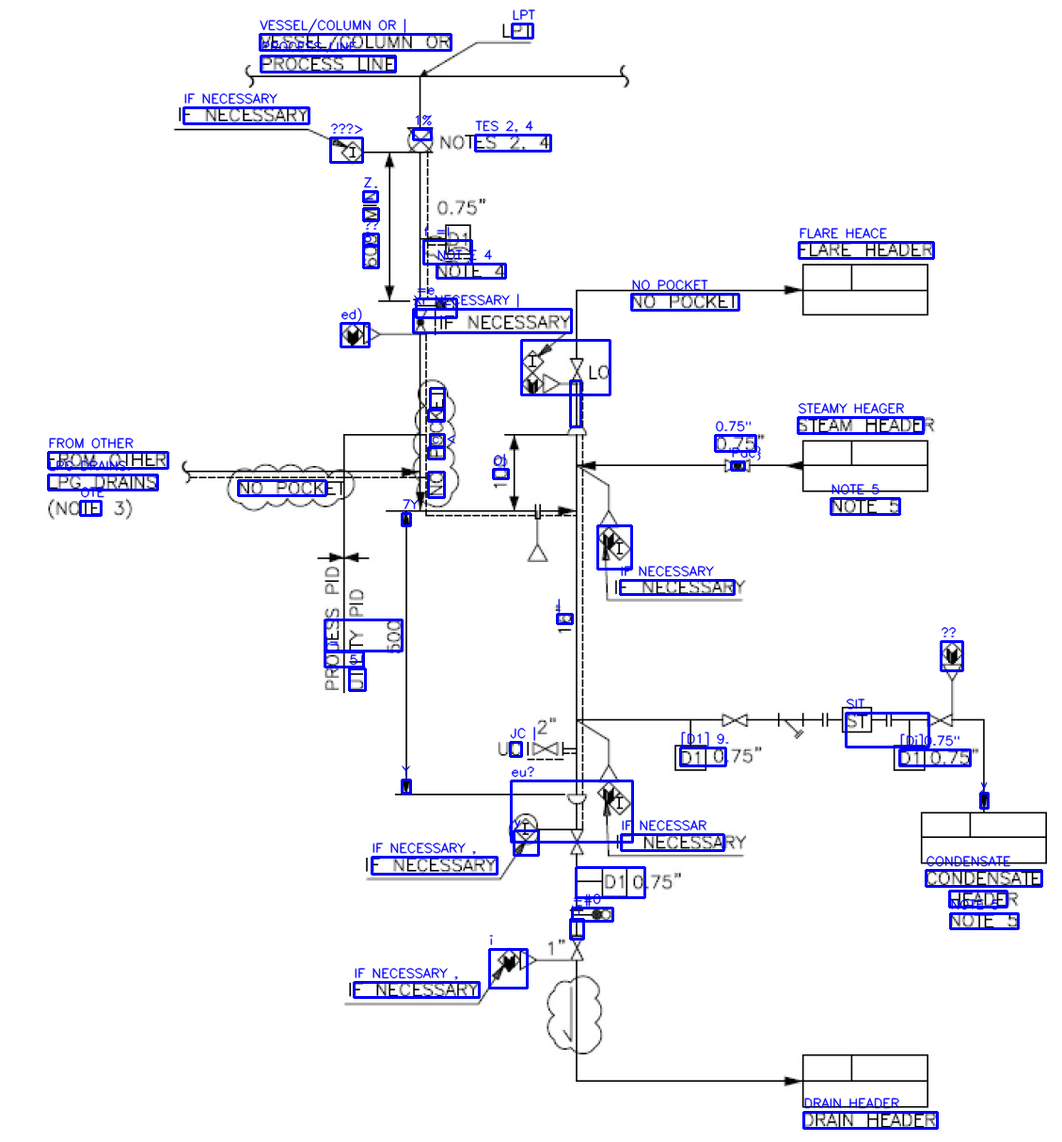Outro: (592, 525, 635, 561), (594, 780, 635, 816), (937, 637, 968, 684), (495, 944, 541, 974), (507, 811, 542, 849), (338, 319, 384, 347), (671, 743, 709, 774), (443, 220, 474, 257), (890, 743, 927, 774), (517, 372, 562, 397), (839, 703, 874, 735), (599, 864, 628, 901), (313, 548, 373, 565), (519, 347, 548, 374), (340, 139, 365, 167), (595, 762, 621, 783), (597, 509, 620, 531), (526, 543, 548, 565), (563, 422, 589, 440), (570, 828, 585, 857), (563, 791, 589, 806)
TrocadordeCalor: (795, 253, 941, 324), (795, 435, 937, 495), (916, 808, 1053, 867), (796, 1051, 930, 1111)
Válvula: (402, 122, 436, 156), (565, 353, 588, 388), (570, 928, 589, 965), (410, 306, 430, 340), (718, 712, 755, 729), (722, 457, 753, 476), (529, 741, 563, 758), (927, 711, 957, 730)
